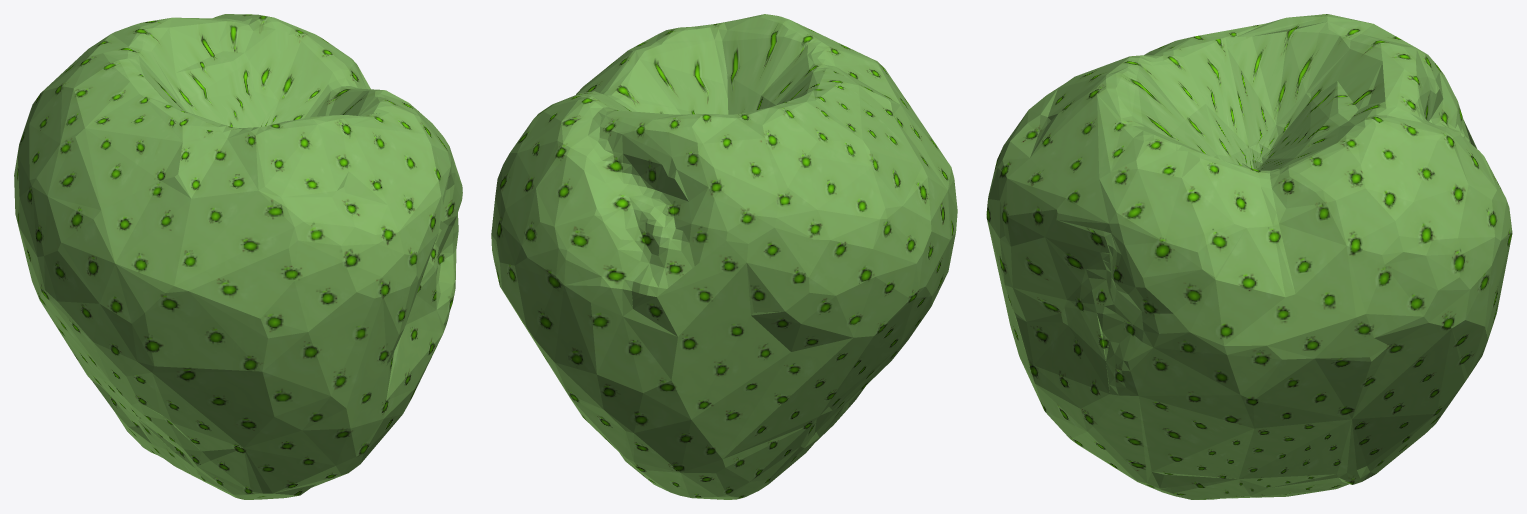
The picture shows the model from 3 angles, left to right: view 1: azimuth 30°, elevation 25°; view 2: azimuth 150°, elevation 25°; view 3: azimuth 270°, elevation 25°; orthographic projection. The views are drawn at different scales.
Parts seen in each view (by area): view 1: _003_Meshed; view 2: _003_Meshed; view 3: _003_Meshed.
Boxes of the visible parts, x1,y1,x2,y2 form: _003_Meshed: (14, 14, 462, 499); _003_Meshed: (491, 14, 957, 499); _003_Meshed: (986, 14, 1512, 499).
Size of the model in its own units: 0.0971 by 0.1082 by 0.0983.
Materials: 1 (1 with a texture image).
